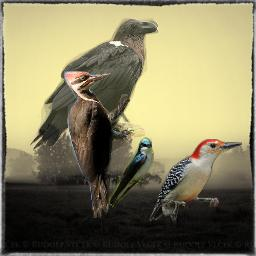Crow: (28, 18, 158, 150)
Swallow: (107, 137, 154, 209)
Woodpecker: (64, 71, 130, 218), (149, 139, 242, 221)
